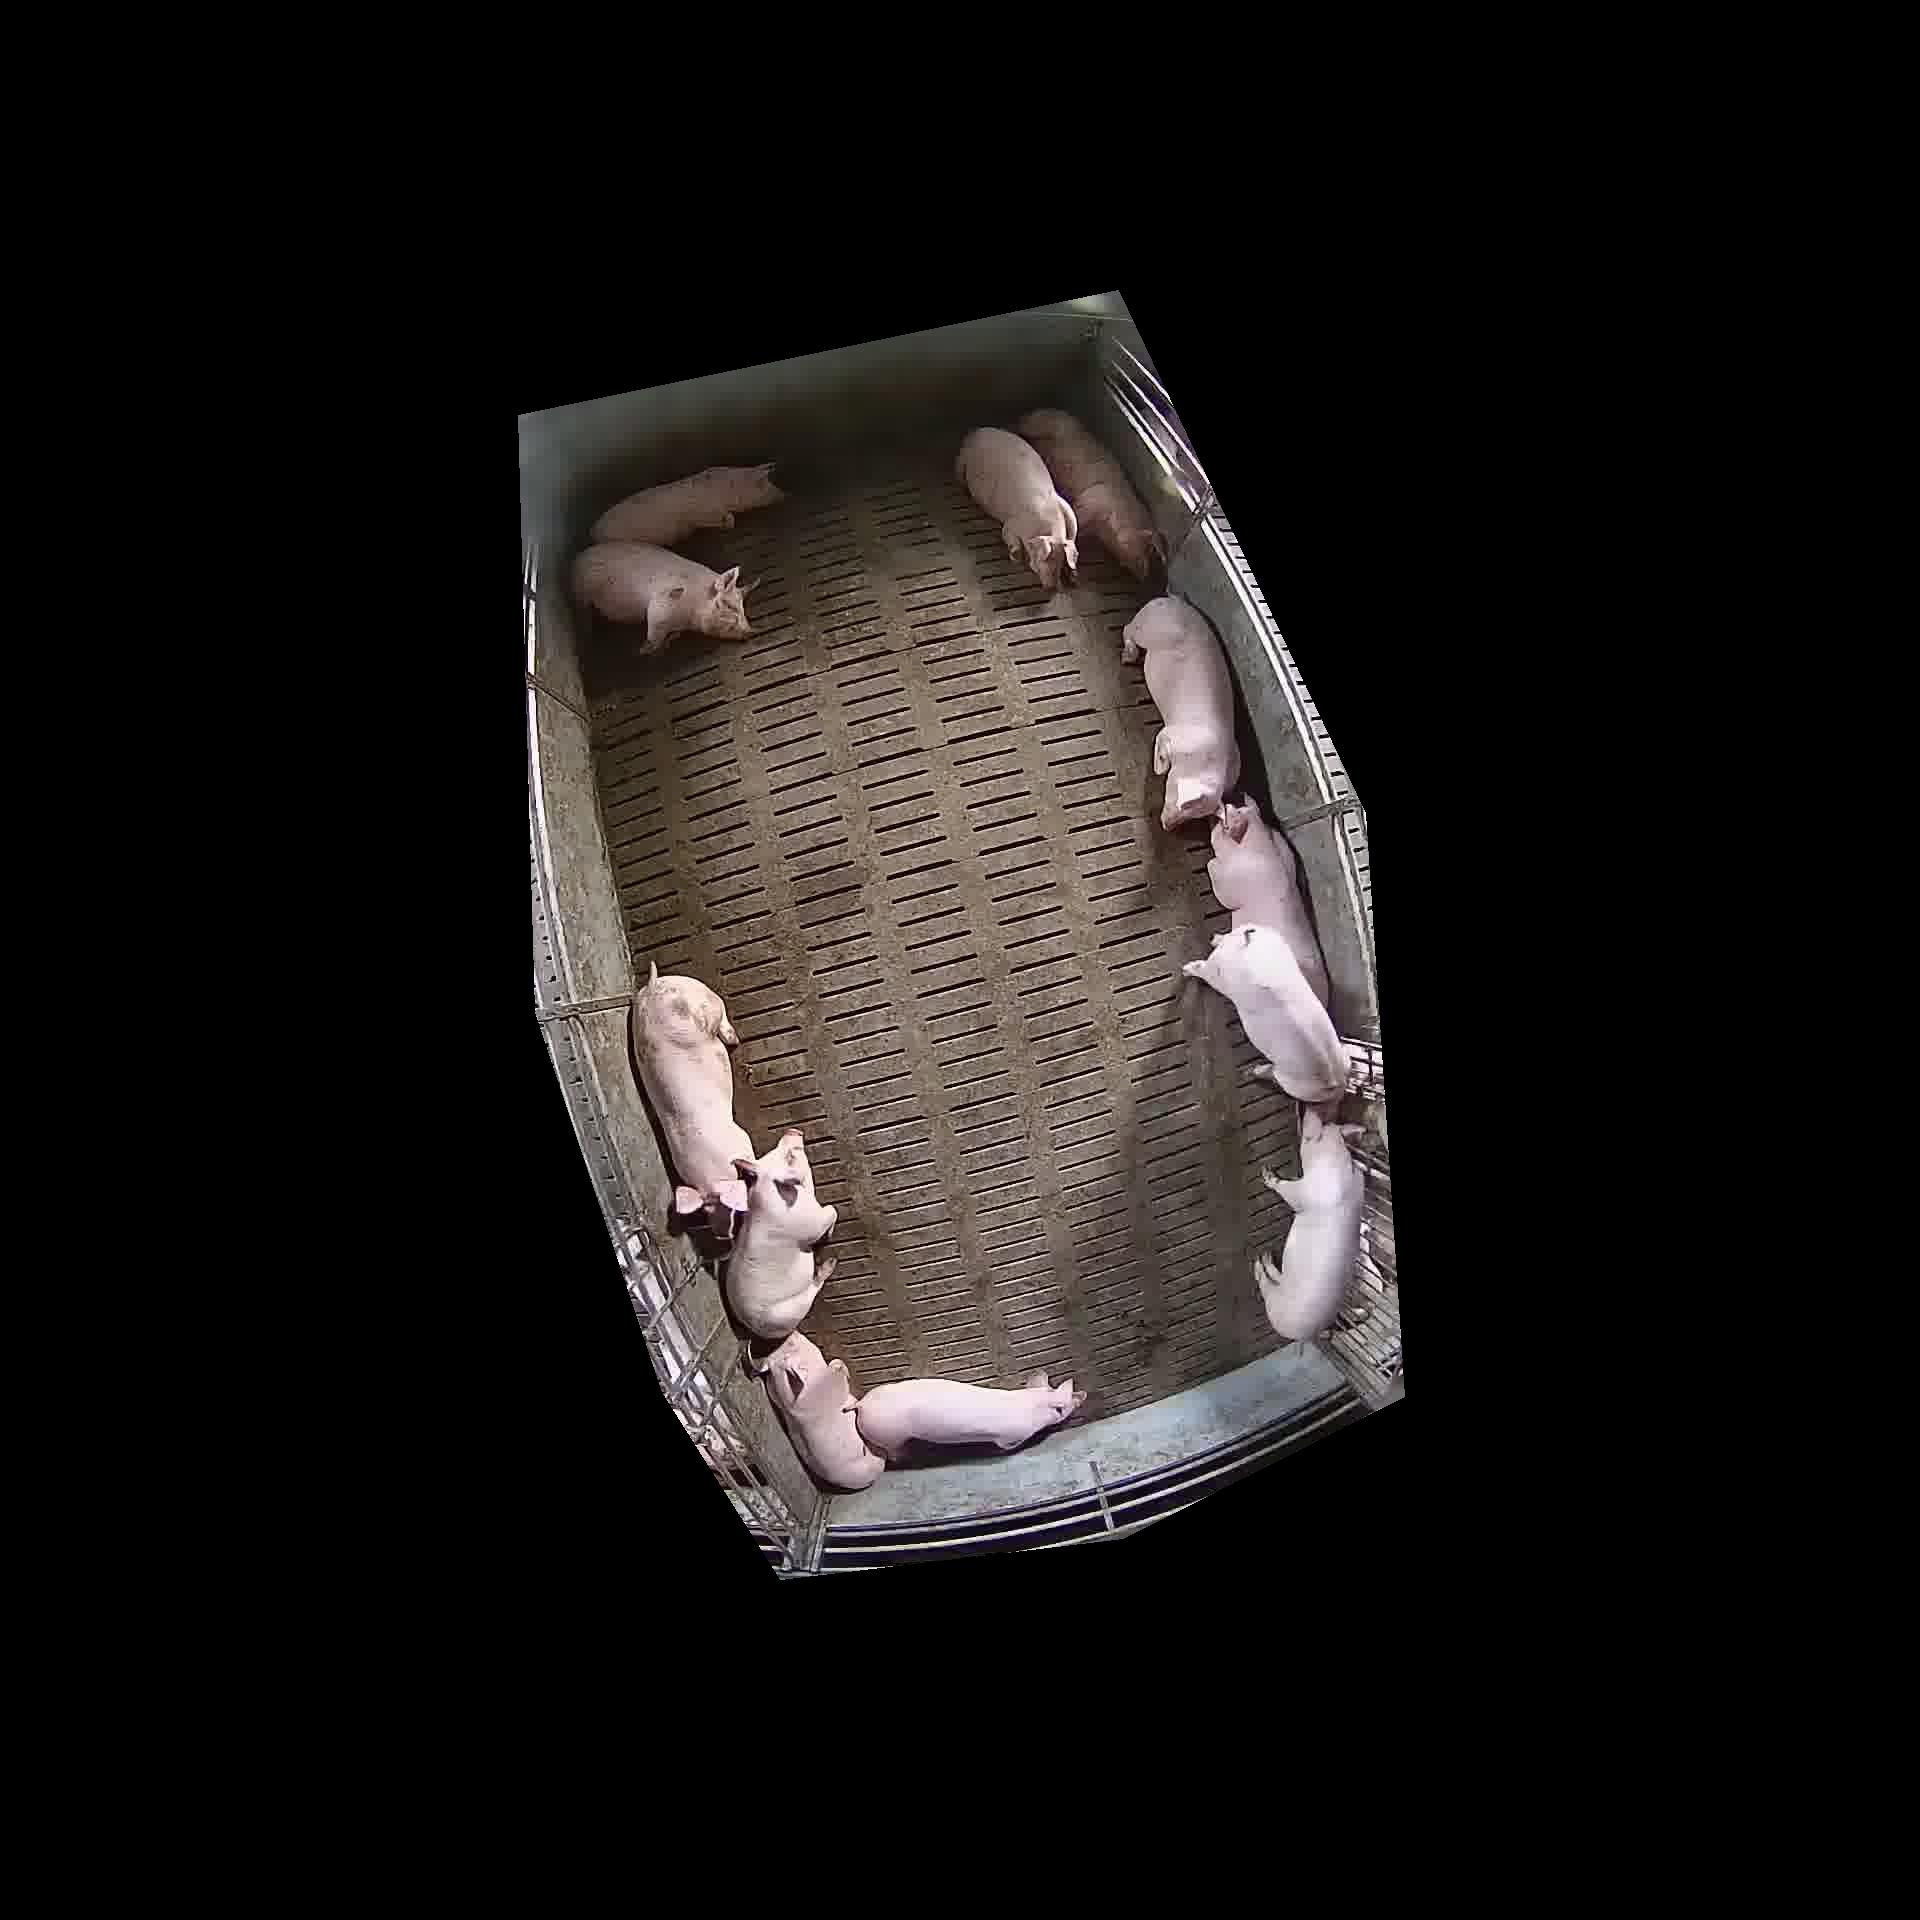pig: (754, 1333, 1083, 1489), (631, 965, 754, 1231), (1183, 925, 1349, 1102), (1124, 596, 1240, 828), (1208, 796, 1327, 1004), (1255, 1109, 1363, 1340), (1018, 410, 1164, 578), (724, 1129, 835, 1340), (754, 1333, 884, 1489), (571, 542, 751, 652), (955, 427, 1076, 587), (856, 1375, 1085, 1458), (591, 462, 782, 545)
